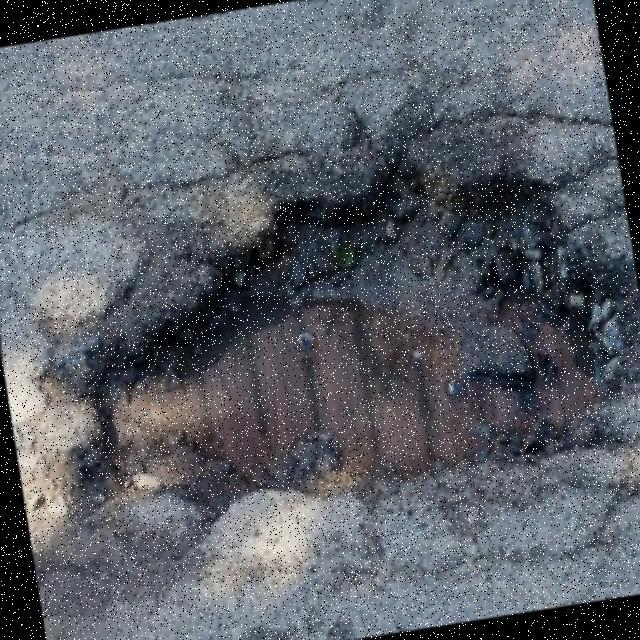Pothole: (91, 163, 616, 487)
